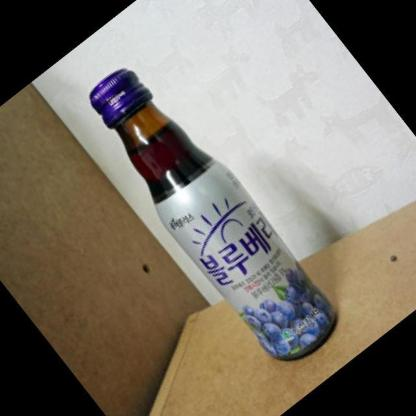Glass Bottle: (90, 67, 336, 360)
